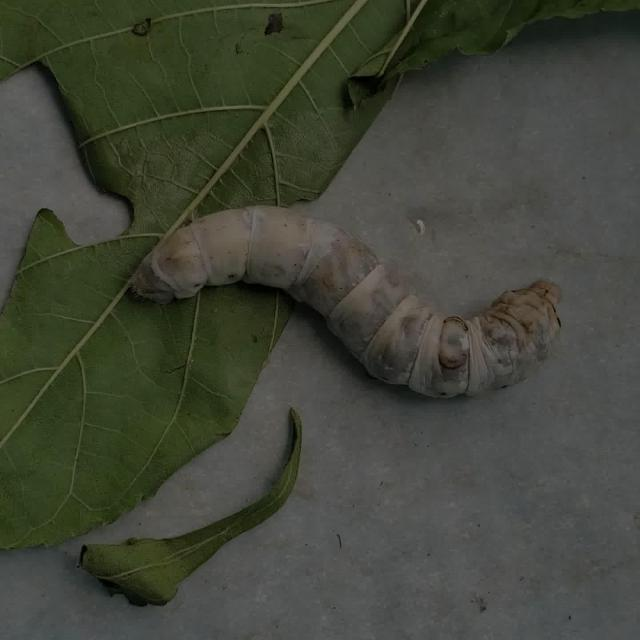Grasserie: (120, 191, 574, 419)
